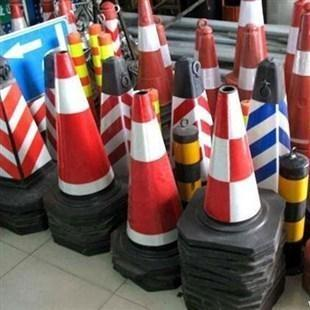cone_barrel: (37, 51, 112, 194), (118, 86, 179, 255), (195, 86, 267, 226), (243, 62, 290, 185), (95, 55, 134, 184), (131, 0, 170, 106), (284, 10, 308, 148), (227, 0, 266, 82), (192, 25, 224, 105)
